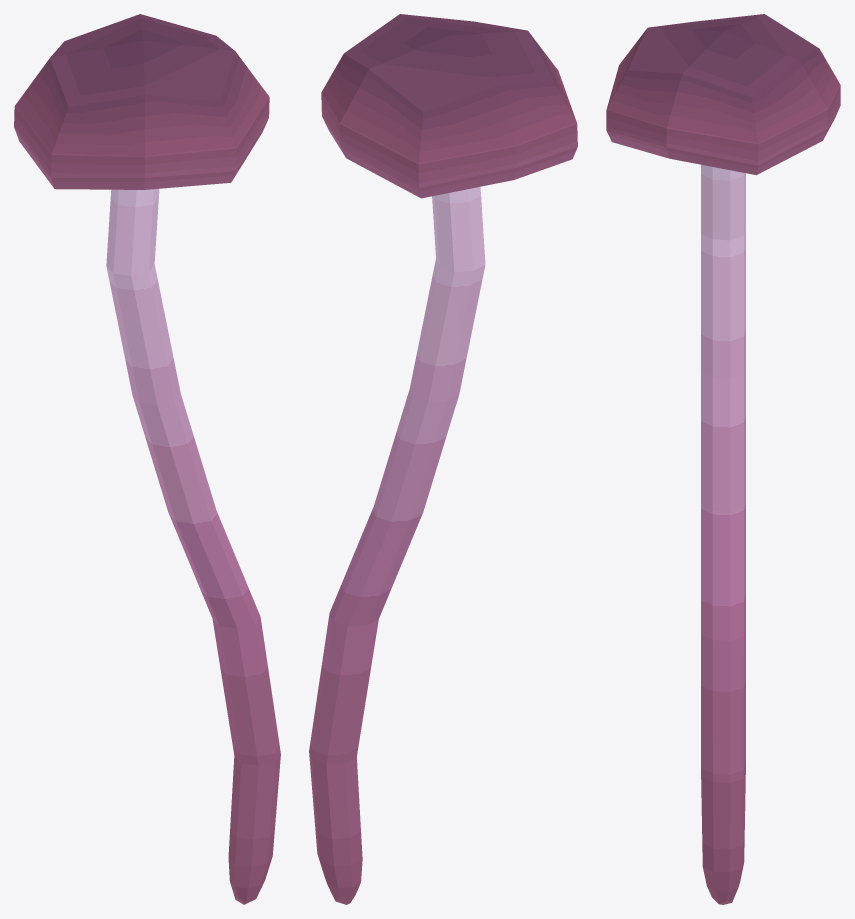
Rendered from Amethyst_small.glb.
The picture shows the model from 3 angles, left to right: view 1: azimuth 30°, elevation 25°; view 2: azimuth 150°, elevation 25°; view 3: azimuth 270°, elevation 25°; orthographic projection. The views are drawn at different scales.
Parts seen in each view (by area): view 1: Cube.004; view 2: Cube.004; view 3: Cube.004.
Boxes of the visible parts, left/top/right/bottom form: Cube.004: left=14, top=14, right=280, bottom=904; Cube.004: left=309, top=14, right=577, bottom=904; Cube.004: left=606, top=14, right=840, bottom=904.
Bounding box in the file's own units: 0.2467 × 0.8548 × 0.219.
Materials: 1 (1 with a texture image).
